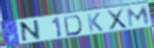1: (51, 16, 63, 39)
D: (63, 15, 84, 37)
K: (86, 12, 105, 33)
M: (126, 6, 151, 28)
N: (20, 19, 42, 44)
X: (105, 7, 128, 31)
